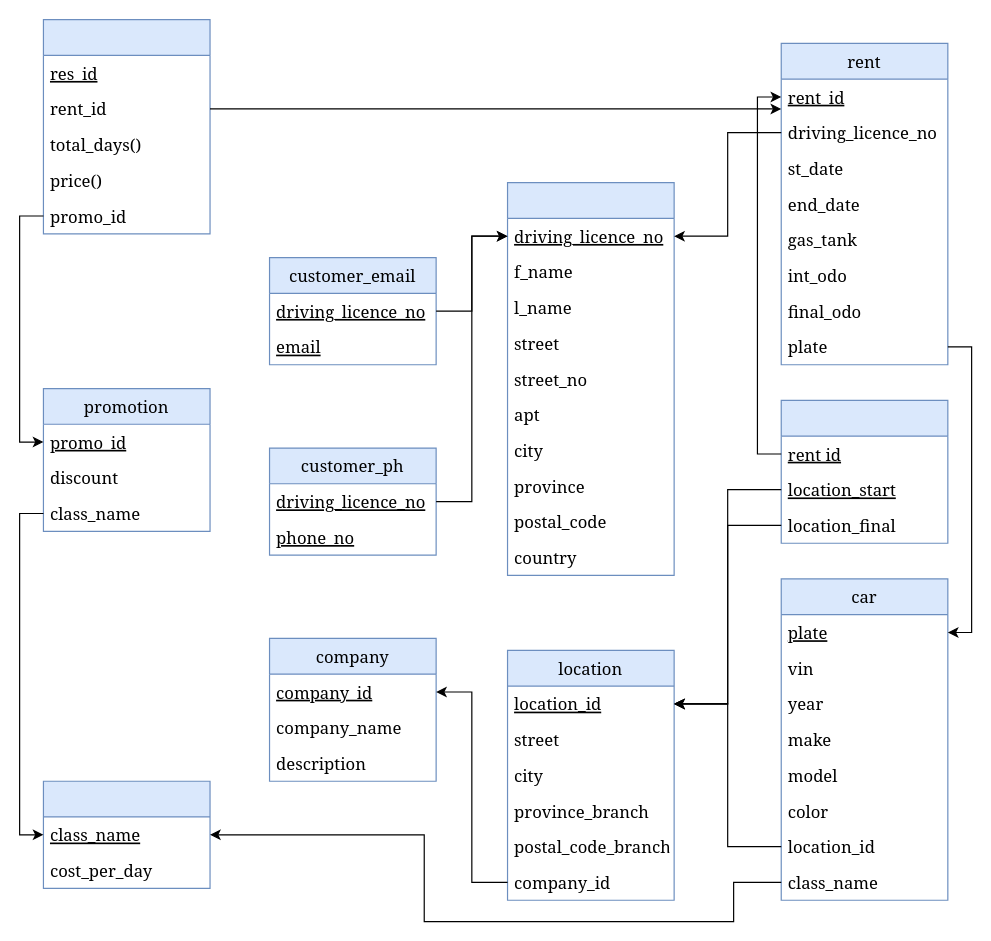
The diagram is 991 pixels wide and 941 high, and some of its shapes have lost their labels. The box of each missing label's shape, as (x1, y1, x2, y2) in pixels:
car_class: (42, 780, 210, 888)
customer: (506, 181, 674, 575)
location_rent: (780, 399, 948, 543)
reservation: (42, 18, 210, 234)
